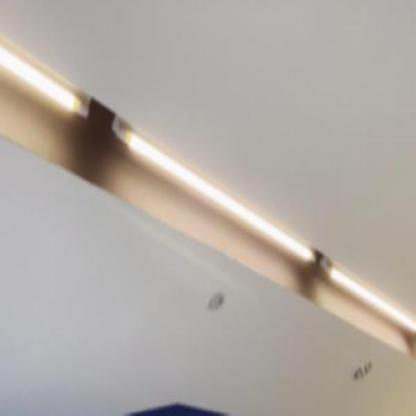light_on: (106, 110, 316, 272), (320, 237, 416, 344), (0, 26, 91, 132)
